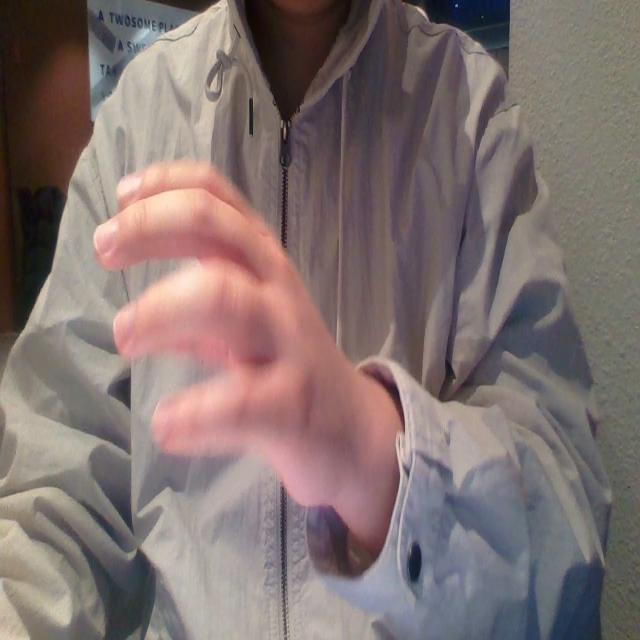hand: (102, 154, 383, 546)
